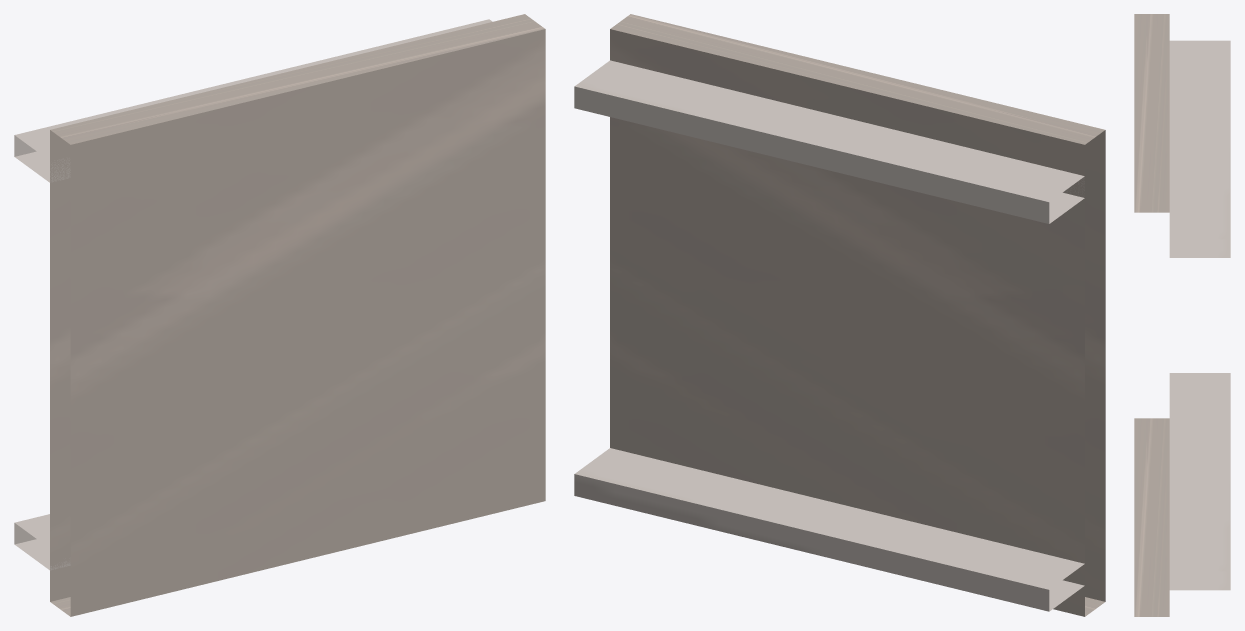
File: pz_table_tables_high_02_long_metal_1_0.obj
The picture shows the model from 3 angles, left to right: view 1: azimuth 30°, elevation 25°; view 2: azimuth 150°, elevation 25°; view 3: azimuth 270°, elevation 25°; orthographic projection. The views are drawn at different scales.
Bounding box in the file's own units: 1 × 0.95 × 0.205.
1 material, 1 textured.
